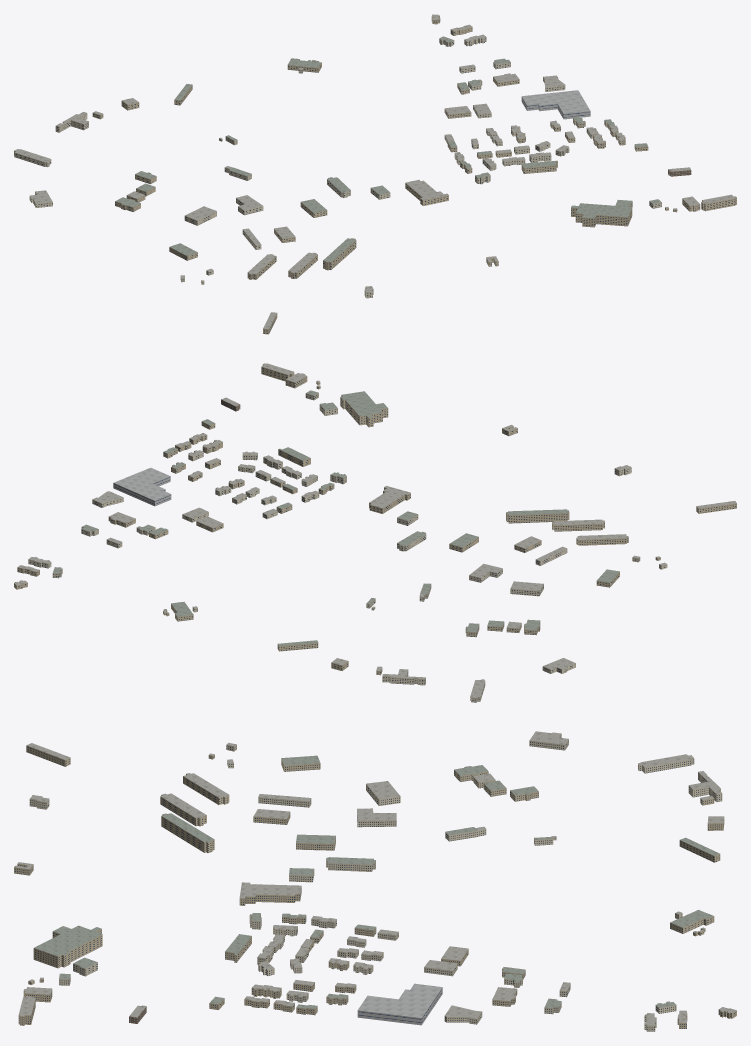
The model's file is ArahaTown_Block_E01024_S01024.gltf.
3 views of the same model, one above another, from view 1: azimuth 30°, elevation 25°; view 2: azimuth 150°, elevation 25°; view 3: azimuth 270°, elevation 25° (orthographic). The views are drawn at different scales.
Visible parts, largest first — view 1: ArahaTown_Block_E01024_S01024; view 2: ArahaTown_Block_E01024_S01024; view 3: ArahaTown_Block_E01024_S01024.
Boxes of the visible parts, <box> form: ArahaTown_Block_E01024_S01024: <box>14,14,736,334</box>; ArahaTown_Block_E01024_S01024: <box>14,363,736,702</box>; ArahaTown_Block_E01024_S01024: <box>14,731,736,1031</box>.
Size of the model in its own units: 1063 by 69.32 by 1011.
Materials: 7 (7 with a texture image).
